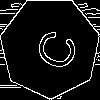C: (25, 22, 81, 75)
